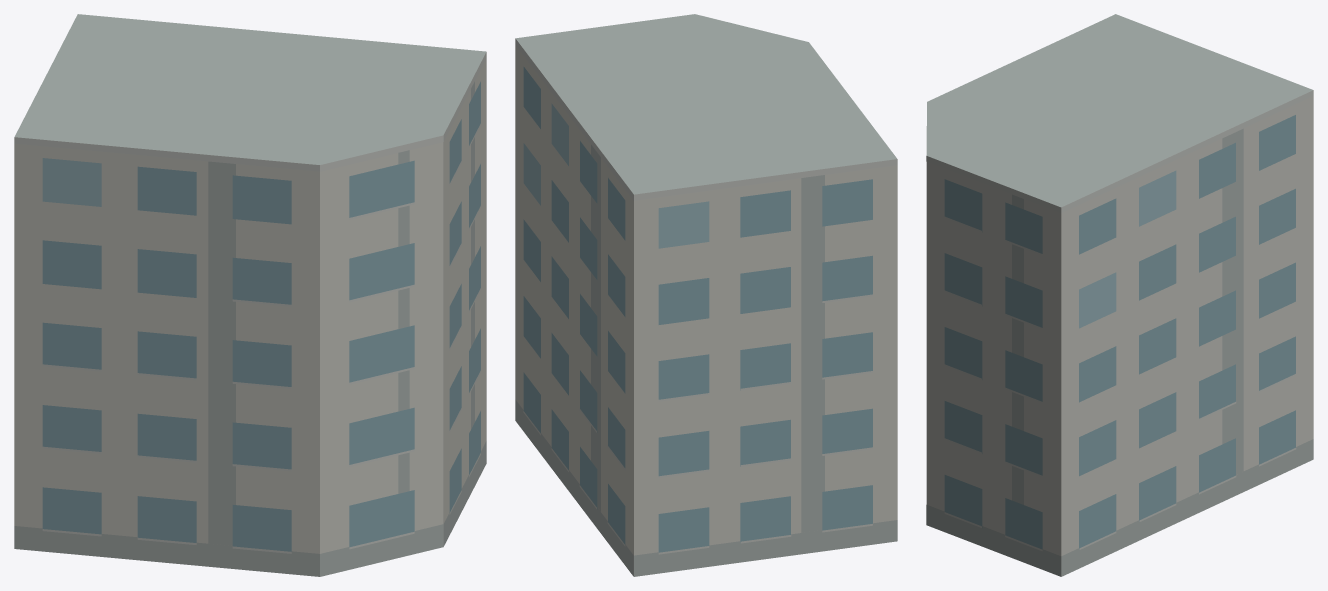
The model's file is residential-424037c8-7d60-4da5-831c-04d5571926a6.glb.
3 renders of one model, left to right at view 1: azimuth 30°, elevation 25°; view 2: azimuth 150°, elevation 25°; view 3: azimuth 270°, elevation 25°, orthographic. The views are drawn at different scales.
Parts seen in each view (by area): view 1: residential-424037c8-7d60-4da5-831c-04d5571926a6.tmp; view 2: residential-424037c8-7d60-4da5-831c-04d5571926a6.tmp; view 3: residential-424037c8-7d60-4da5-831c-04d5571926a6.tmp.
Boxes of the visible parts, bbox=[...] form: residential-424037c8-7d60-4da5-831c-04d5571926a6.tmp: bbox=[14, 14, 486, 576]; residential-424037c8-7d60-4da5-831c-04d5571926a6.tmp: bbox=[515, 14, 897, 576]; residential-424037c8-7d60-4da5-831c-04d5571926a6.tmp: bbox=[926, 14, 1313, 576].
Size of the model in its own units: 17.14 by 15.25 by 14.5.
